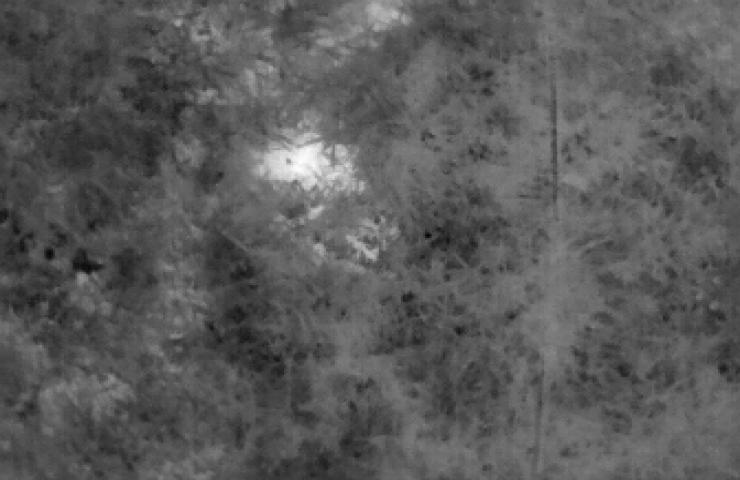landmines: (258, 125, 332, 193)
